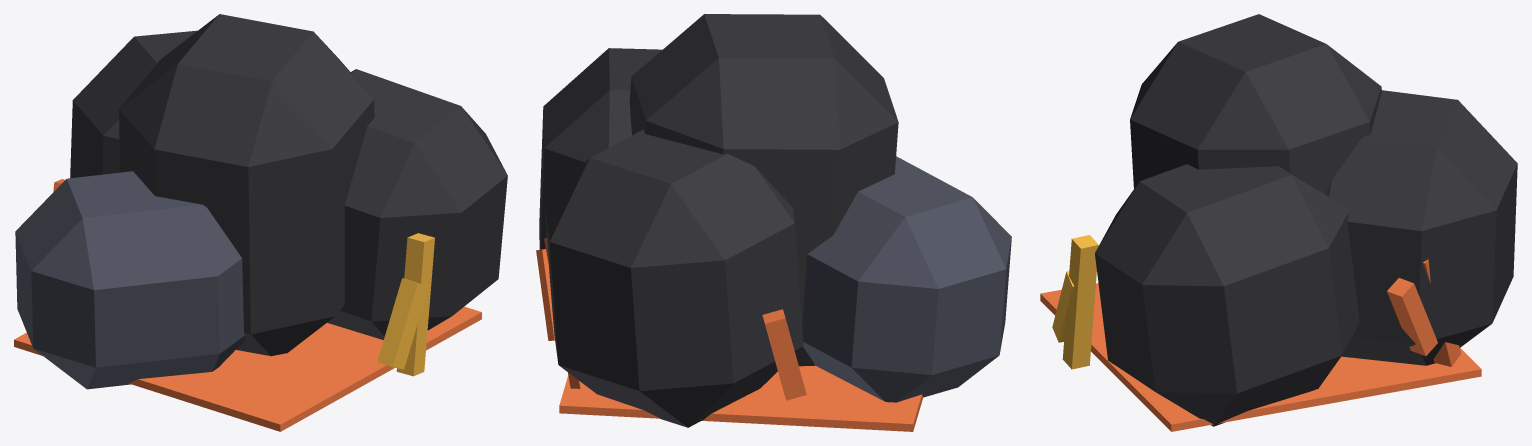
The model's file is lava-rocks.glb.
3 views of the same model, side by side, from view 1: azimuth 30°, elevation 25°; view 2: azimuth 150°, elevation 25°; view 3: azimuth 270°, elevation 25° (orthographic). The views are drawn at different scales.
Parts seen in each view (by area): view 1: lava-rocks, glow-lava-rocks; view 2: lava-rocks, glow-lava-rocks; view 3: lava-rocks, glow-lava-rocks.
Part boxes in pixels (box(x1,y1,x2,y2)): lava-rocks: box(15, 14, 507, 389); glow-lava-rocks: box(14, 179, 481, 431); lava-rocks: box(539, 14, 1011, 427); glow-lava-rocks: box(536, 238, 923, 431); lava-rocks: box(1095, 14, 1517, 426); glow-lava-rocks: box(1040, 235, 1481, 431).
Size of the model in its own units: 0.7678 by 0.4971 by 0.7088.
Materials: 1 (1 with a texture image).
